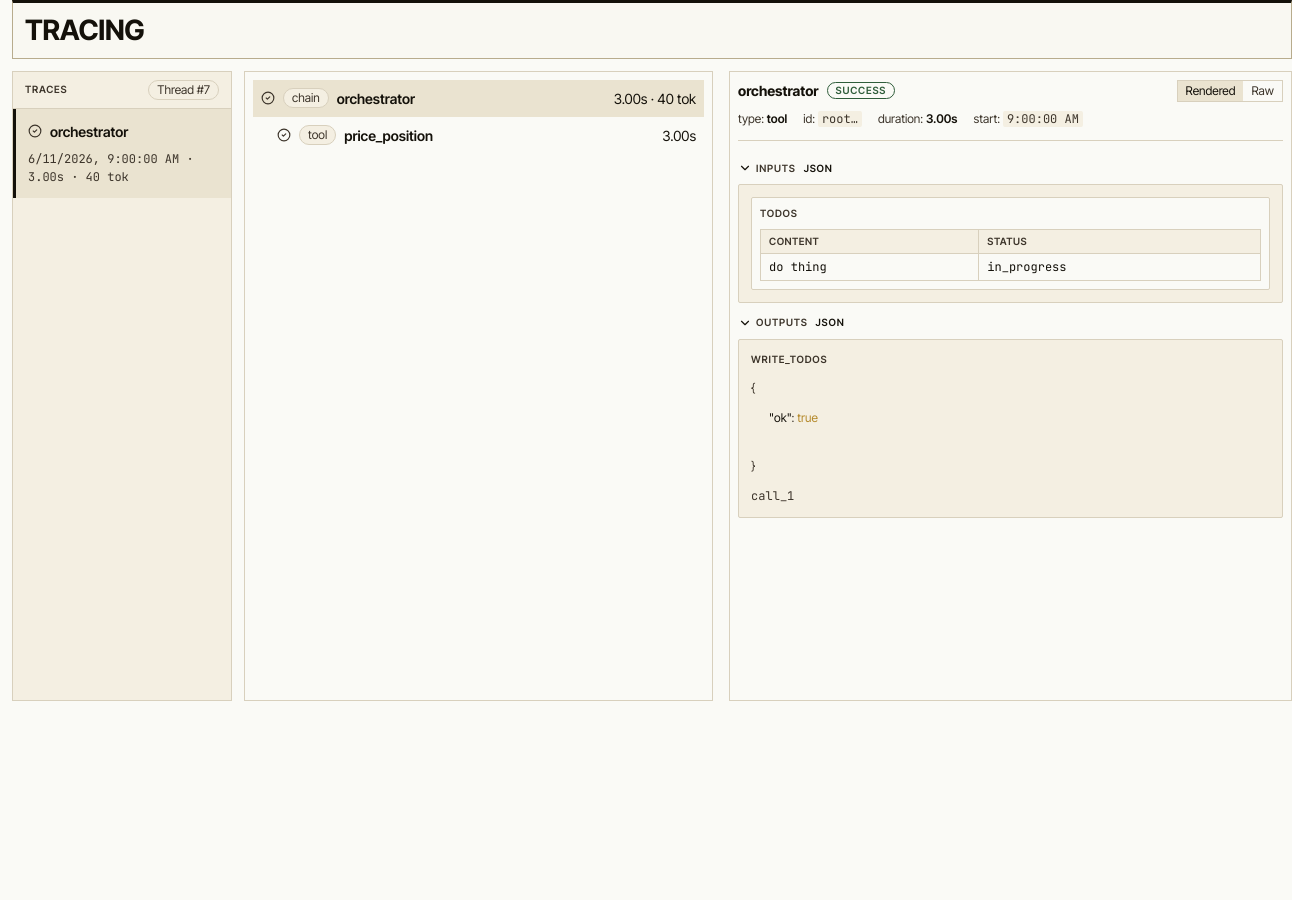
Scenario: Tracing › renders a tool output envelope by unwrapping the ToolMessage repr
Expected: the text "write_todos" is shown, left=751, top=353, right=827, bottom=365
Raw: the full envelope pretty-printed.
Click the button "Raw".
click(1263, 91)  # box left=1244, top=81, right=1282, bottom=101
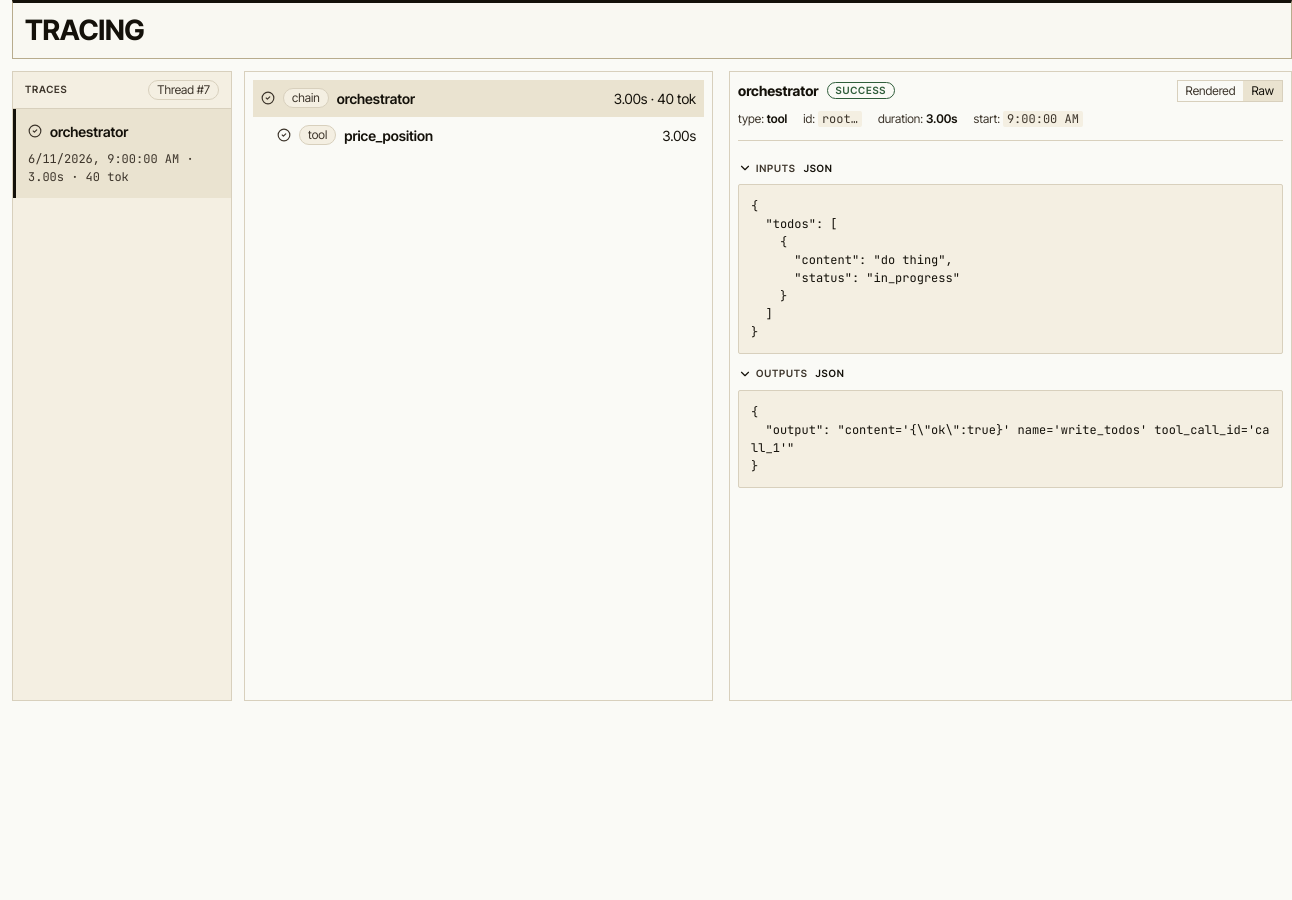
Expected: the element that starts with "TRACING" shows "tool_call_id", left=751, top=404, right=1270, bottom=474
